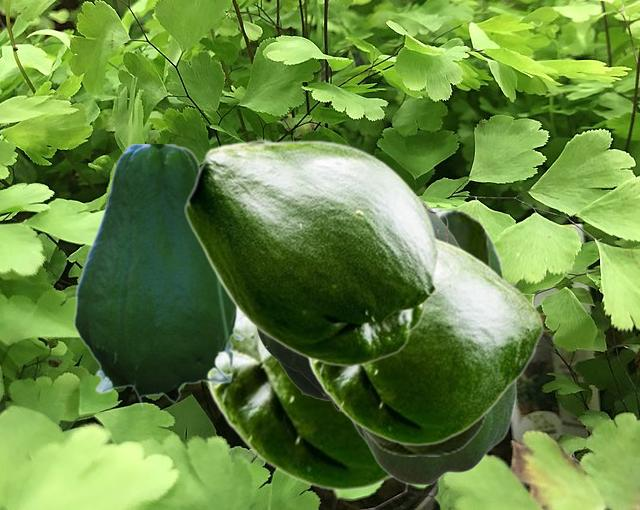sayote: (184, 139, 438, 366), (306, 235, 543, 445), (349, 207, 516, 485), (73, 144, 243, 407), (256, 199, 460, 411), (355, 208, 494, 455), (205, 312, 393, 490)
